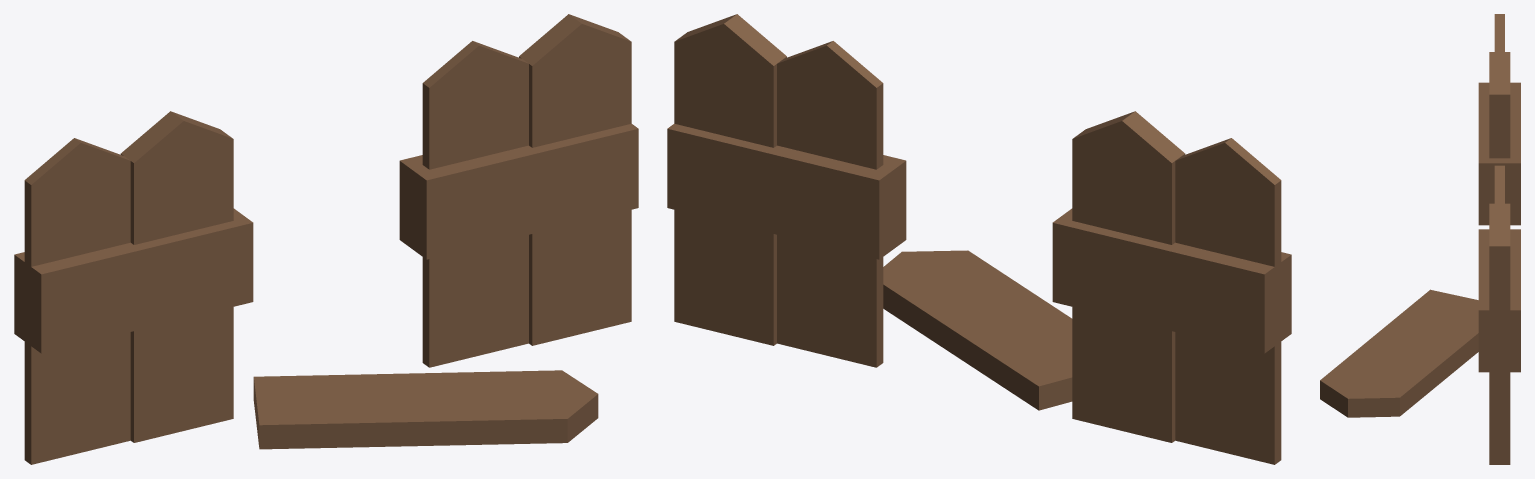
The model's file is gy_fence_broken.glb.
The picture shows the model from 3 angles, left to right: view 1: azimuth 30°, elevation 25°; view 2: azimuth 150°, elevation 25°; view 3: azimuth 270°, elevation 25°; orthographic projection. The views are drawn at different scales.
Visible parts, largest first — view 1: gy_fence_broken2; view 2: gy_fence_broken2; view 3: gy_fence_broken2.
Boxes of the visible parts, x1=… form: gy_fence_broken2: x1=14, y1=14, x2=638, y2=464; gy_fence_broken2: x1=667, y1=14, x2=1291, y2=464; gy_fence_broken2: x1=1320, y1=14, x2=1520, y2=464.
Bounding box in the file's own units: 2.22 × 1.1 × 0.8268.
